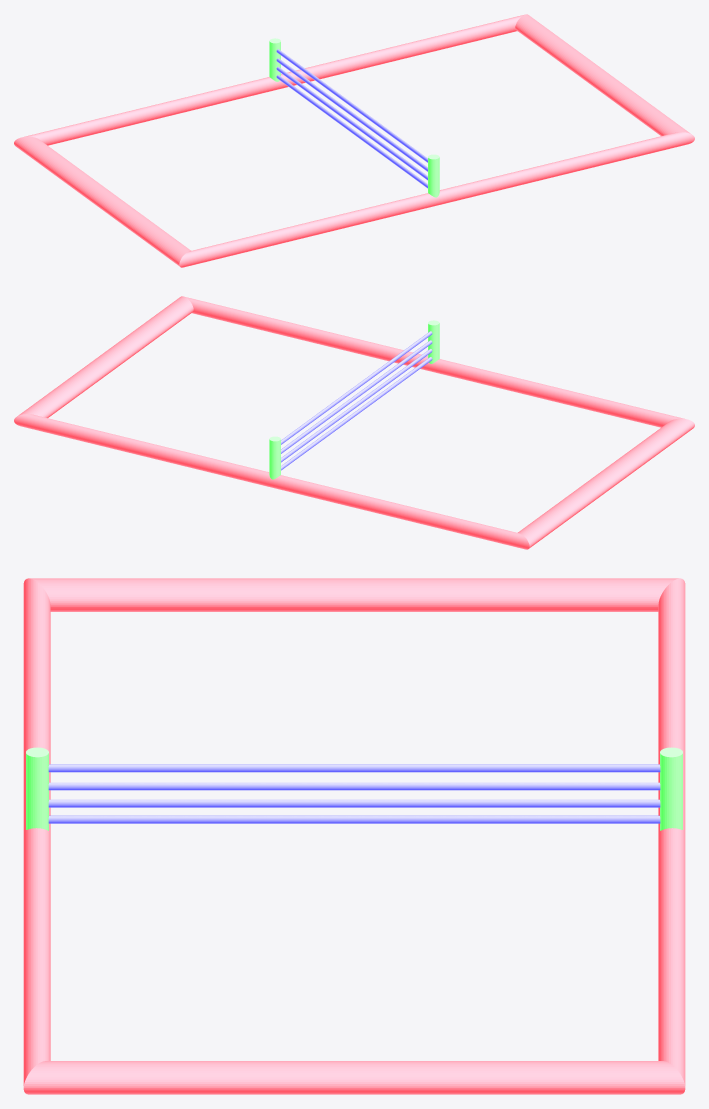
The model's file is table.glb.
3 renders of one model, top to bottom at view 1: azimuth 30°, elevation 25°; view 2: azimuth 150°, elevation 25°; view 3: azimuth 270°, elevation 25°, orthographic. The views are drawn at different scales.
Visible parts, largest first — view 1: Plane.001, rete.001, Cylinder; view 2: Plane.001, rete.001, Cylinder; view 3: Plane.001, rete.001, Cylinder.
Boxes of the visible parts, box(x1,y1,x2,y2) form: Plane.001: box(14, 14, 694, 267); rete.001: box(276, 49, 427, 188); Cylinder: box(269, 38, 439, 197); Plane.001: box(14, 296, 694, 549); rete.001: box(281, 331, 432, 470); Cylinder: box(269, 320, 439, 479); Plane.001: box(23, 578, 685, 1094); rete.001: box(48, 764, 660, 823); Cylinder: box(26, 747, 682, 830).
Bounding box in the file's own units: 4.9 × 0.4416 × 2.72.
